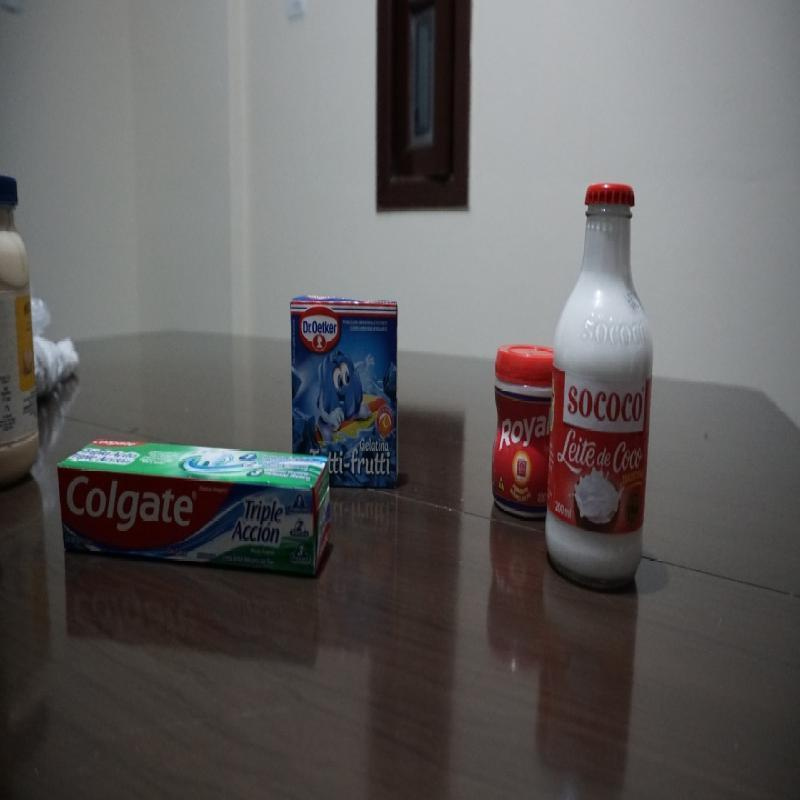Coconut Milk: (546, 181, 655, 598)
Gelatine: (290, 295, 398, 494)
Toothpaste: (58, 436, 334, 592)
Yeast: (488, 345, 553, 530)
